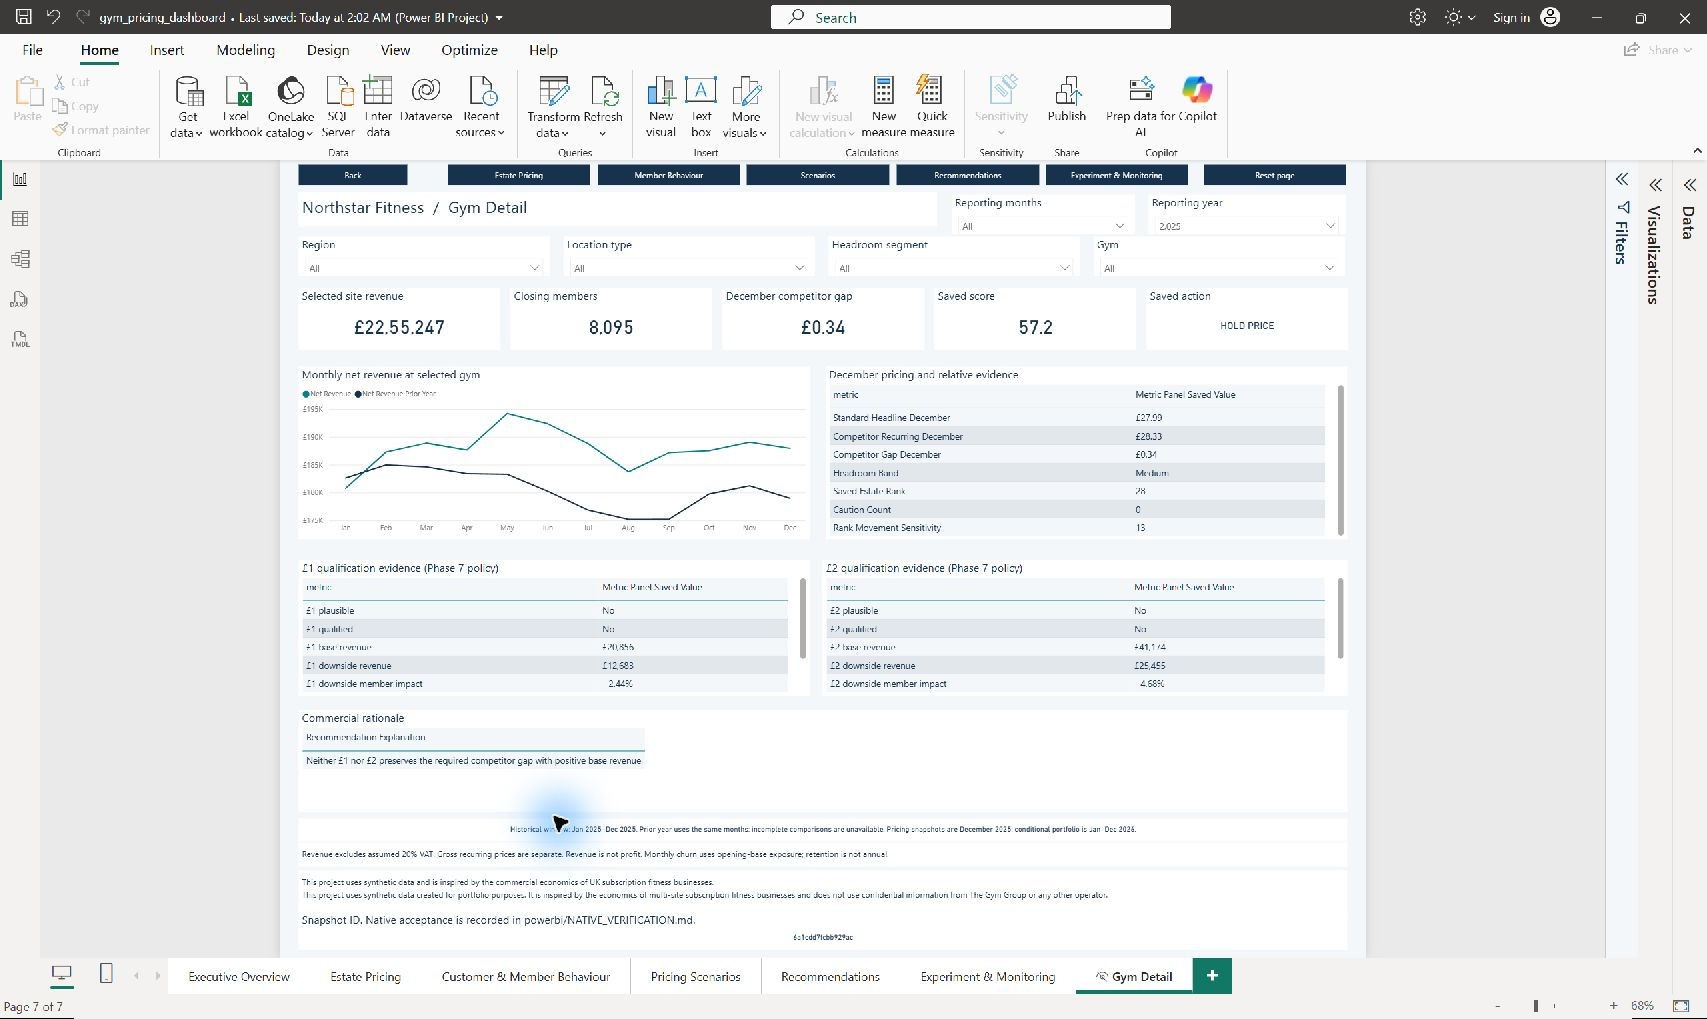

This screenshot's page, from the dashboard's own definition file:
{"tool":"powerbi","page":{"name":"Gym Detail","canvas":[1600,1176],"ordinal":6},"visuals":[{"type":"card","title":"Selected site revenue","fields":{"Values":["CommercialMeasures.Net Revenue"]},"box":[28,188,296,91],"z":0},{"type":"card","title":"Closing members","fields":{"Values":["CommercialMeasures.Closing Members"]},"box":[340,188,296,91],"z":1},{"type":"card","title":"December competitor gap","fields":{"Values":["CommercialMeasures.Competitor Gap December"]},"box":[652,188,296,91],"z":2},{"type":"card","title":"Saved score","fields":{"Values":["CommercialMeasures.Headroom Score"]},"box":[964,188,296,91],"z":3},{"type":"card","title":"Saved action","fields":{"Values":["CommercialMeasures.Saved Recommendation"]},"box":[1276,188,296,91],"z":4},{"type":"lineChart","title":"Monthly net revenue at selected gym","fields":{"Category":["DimHistoryMonth.month_name"],"Y":["CommercialMeasures.Net Revenue","CommercialMeasures.Net Revenue Prior Year"]},"box":[28,305,752,254],"z":5},{"type":"tableEx","title":"December pricing and relative evidence","fields":{"Values":["DimMetricPanel.metric","CommercialMeasures.Metric Panel Saved Value"]},"box":[804,305,768,254],"z":6},{"type":"tableEx","title":"£1 qualification evidence (Phase 7 policy)","fields":{"Values":["DimMetricPanel.metric","CommercialMeasures.Metric Panel Saved Value"]},"box":[28,589,752,200],"z":7},{"type":"tableEx","title":"£2 qualification evidence (Phase 7 policy)","fields":{"Values":["DimMetricPanel.metric","CommercialMeasures.Metric Panel Saved Value"]},"box":[800,589,772,200],"z":8},{"type":"tableEx","title":"Commercial rationale","fields":{"Values":["CommercialMeasures.Recommendation Explanation"]},"box":[28,810,1544,150],"z":9},{"type":"slicer","title":"Region","fields":{"Values":["DimGym.region"]},"box":[28,114,370,58],"z":10},{"type":"slicer","title":"Location type","fields":{"Values":["DimGym.location_type"]},"box":[418,114,370,58],"z":11},{"type":"slicer","title":"Headroom segment","fields":{"Values":["DimGym.segment"]},"box":[808,114,370,58],"z":12},{"type":"slicer","title":"Gym","fields":{"Values":["DimGym.gym_id"]},"box":[1198,114,370,58],"z":13},{"type":"slicer","title":"Reporting year","fields":{"Values":["DimHistoryMonth.year"]},"box":[1280,52,290,58],"z":14},{"type":"slicer","title":"Reporting months","fields":{"Values":["DimHistoryMonth.month_name"]},"box":[990,52,270,58],"z":15},{"type":"textbox","box":[28,47,940,51],"z":16},{"type":"card","fields":{"Values":["CommercialMeasures.Historical Reporting Note"]},"box":[28,970,1544,33],"z":17},{"type":"card","title":"Snapshot ID. Native acceptance is recorded in powerbi/NATIVE_VERIFICATION.md.","fields":{"Values":["CommercialMeasures.Snapshot Version"]},"box":[28,1107,1544,56],"z":18},{"type":"textbox","box":[28,1006,1544,35],"z":19},{"type":"textbox","box":[28,1047,1544,62],"z":20},{"type":"actionButton","title":"Estate Pricing","box":[248,7,210,30],"z":21},{"type":"actionButton","title":"Member Behaviour","box":[468,7,210,30],"z":22},{"type":"actionButton","title":"Scenarios","box":[688,7,210,30],"z":23},{"type":"actionButton","title":"Recommendations","box":[908,7,210,30],"z":24},{"type":"actionButton","title":"Experiment & Monitoring","box":[1128,7,210,30],"z":25},{"type":"actionButton","title":"Reset page","box":[1360,7,210,30],"z":26},{"type":"actionButton","title":"Back","box":[28,7,160,30],"z":27}]}

Visuals, with their boxes on the page's 1600x1176 design canvas (x1, y1, x2, y2). These are canvas units, not pixel positions in the 1707x1019 screenshot, which may show the page scaled, cropped or inside an application window:
"Selected site revenue" card: (x1=28, y1=188, x2=324, y2=279)
"Closing members" card: (x1=340, y1=188, x2=636, y2=279)
"December competitor gap" card: (x1=652, y1=188, x2=948, y2=279)
"Saved score" card: (x1=964, y1=188, x2=1260, y2=279)
"Saved action" card: (x1=1276, y1=188, x2=1572, y2=279)
"Monthly net revenue at selected gym" lineChart: (x1=28, y1=305, x2=780, y2=559)
"December pricing and relative evidence" tableEx: (x1=804, y1=305, x2=1572, y2=559)
"£1 qualification evidence (Phase 7 policy)" tableEx: (x1=28, y1=589, x2=780, y2=789)
"£2 qualification evidence (Phase 7 policy)" tableEx: (x1=800, y1=589, x2=1572, y2=789)
"Commercial rationale" tableEx: (x1=28, y1=810, x2=1572, y2=960)
"Region" slicer: (x1=28, y1=114, x2=398, y2=172)
"Location type" slicer: (x1=418, y1=114, x2=788, y2=172)
"Headroom segment" slicer: (x1=808, y1=114, x2=1178, y2=172)
"Gym" slicer: (x1=1198, y1=114, x2=1568, y2=172)
"Reporting year" slicer: (x1=1280, y1=52, x2=1570, y2=110)
"Reporting months" slicer: (x1=990, y1=52, x2=1260, y2=110)
textbox: (x1=28, y1=47, x2=968, y2=98)
card - CommercialMeasures.Historical Reporting Note: (x1=28, y1=970, x2=1572, y2=1003)
"Snapshot ID. Native acceptance is recorded in powerbi/NATIVE_VERIFICATION.md." card: (x1=28, y1=1107, x2=1572, y2=1163)
textbox: (x1=28, y1=1006, x2=1572, y2=1041)
textbox: (x1=28, y1=1047, x2=1572, y2=1109)
"Estate Pricing" actionButton: (x1=248, y1=7, x2=458, y2=37)
"Member Behaviour" actionButton: (x1=468, y1=7, x2=678, y2=37)
"Scenarios" actionButton: (x1=688, y1=7, x2=898, y2=37)
"Recommendations" actionButton: (x1=908, y1=7, x2=1118, y2=37)
"Experiment & Monitoring" actionButton: (x1=1128, y1=7, x2=1338, y2=37)
"Reset page" actionButton: (x1=1360, y1=7, x2=1570, y2=37)
"Back" actionButton: (x1=28, y1=7, x2=188, y2=37)
